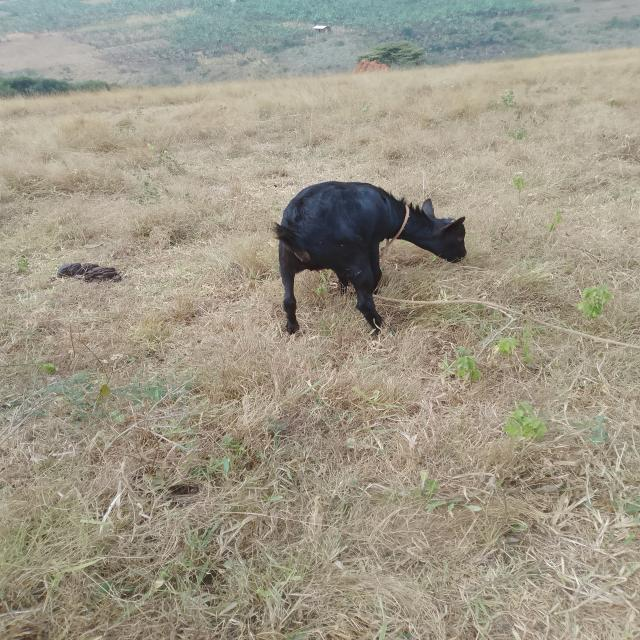goat: (224, 163, 529, 367)
